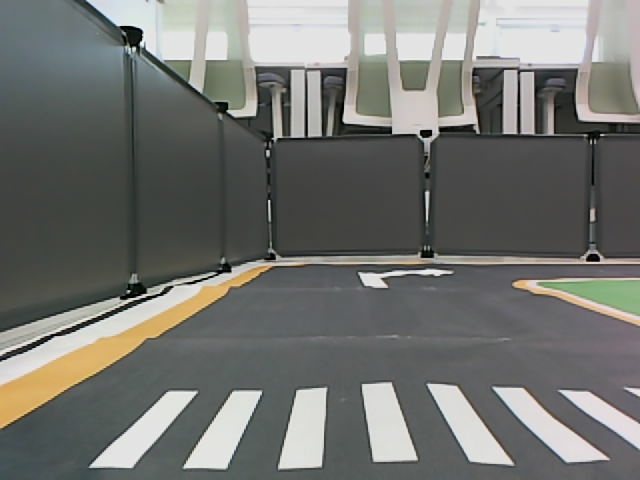crosswalk: (78, 379, 640, 467)
